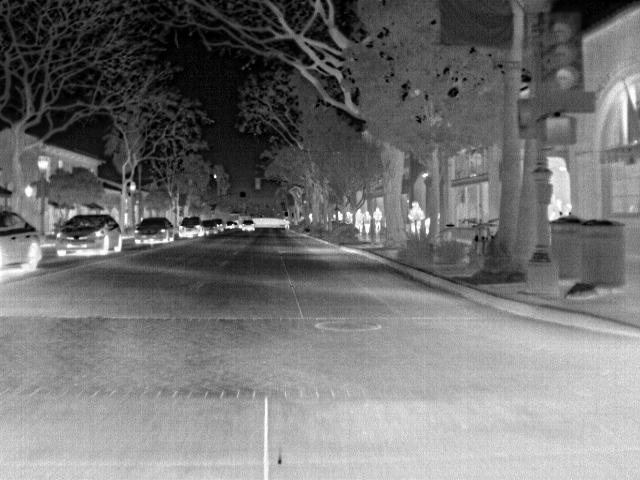car: (53, 213, 121, 259), (0, 206, 44, 273), (132, 218, 175, 244), (178, 217, 200, 242), (238, 218, 257, 234), (201, 220, 219, 236), (208, 218, 224, 234)
person: (409, 200, 424, 234), (371, 204, 385, 238), (351, 207, 364, 238), (363, 210, 375, 236), (342, 209, 354, 225)
